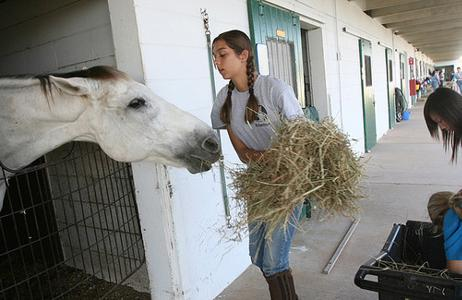person: (209, 30, 311, 300)
